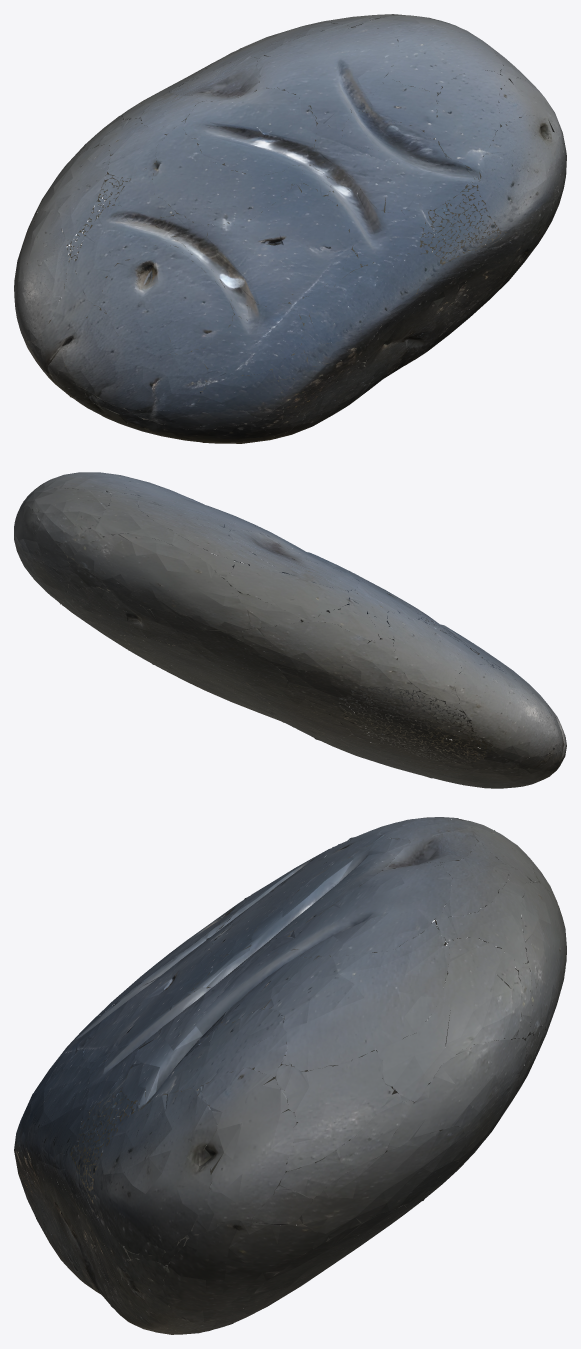
Rendered from basin-stone-slim.glb.
The picture shows the model from 3 angles, top to bottom: view 1: azimuth 30°, elevation 25°; view 2: azimuth 150°, elevation 25°; view 3: azimuth 270°, elevation 25°; orthographic projection. The views are drawn at different scales.
Parts seen in each view (by area): view 1: node_0; view 2: node_0; view 3: node_0.
Boxes of the visible parts, <box> form: node_0: <box>14,14,566,443</box>; node_0: <box>14,472,566,788</box>; node_0: <box>14,817,566,1334</box>.
Bounding box in the file's own units: 1.18 × 0.6264 × 0.6559.
Materials: 1 (1 with a texture image).
